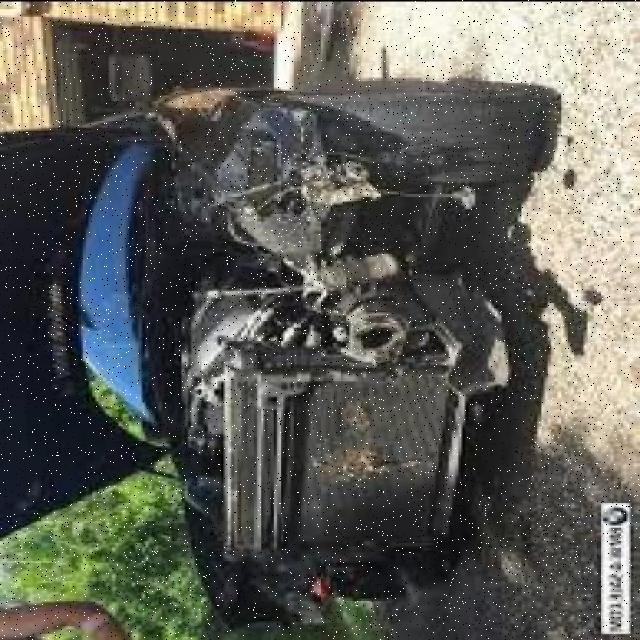damage: (152, 119, 510, 635)
